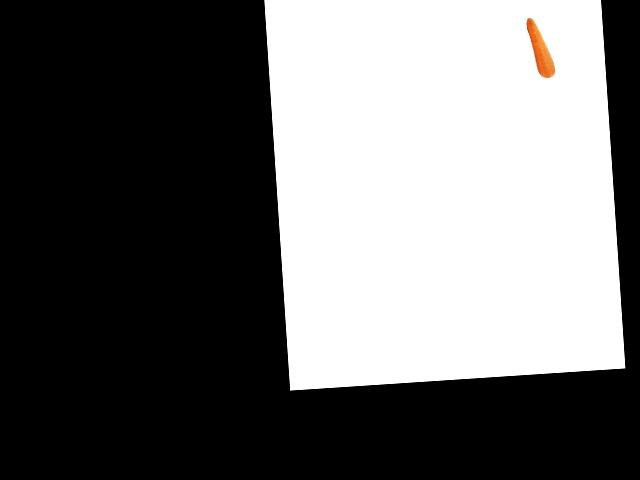carrot: (526, 13, 558, 80)
